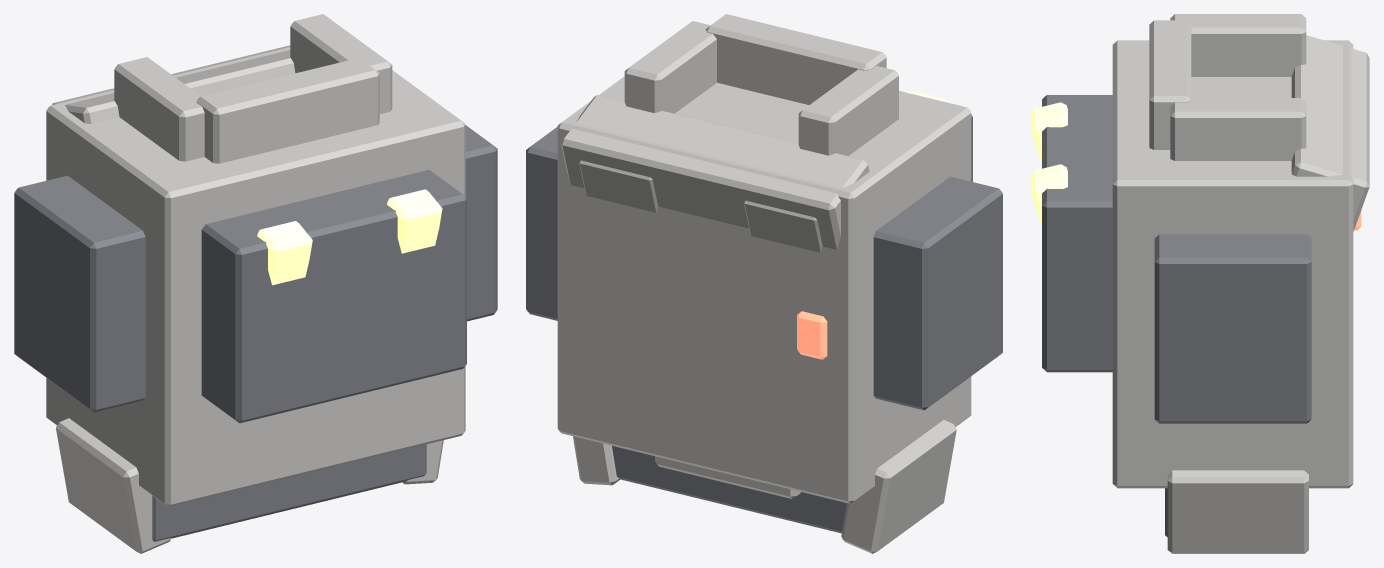
File: hero3_body.glb
3 renders of one model, left to right at view 1: azimuth 30°, elevation 25°; view 2: azimuth 150°, elevation 25°; view 3: azimuth 270°, elevation 25°, orthographic. The views are drawn at different scales.
Visible parts, largest first — view 1: hero3_body; view 2: hero3_body; view 3: hero3_body.
Boxes of the visible parts, <box> form: hero3_body: <box>14,14,497,553</box>; hero3_body: <box>526,14,1002,553</box>; hero3_body: <box>1031,14,1369,553</box>.
Size of the model in its own units: 1.76 by 1.8 by 1.29.
